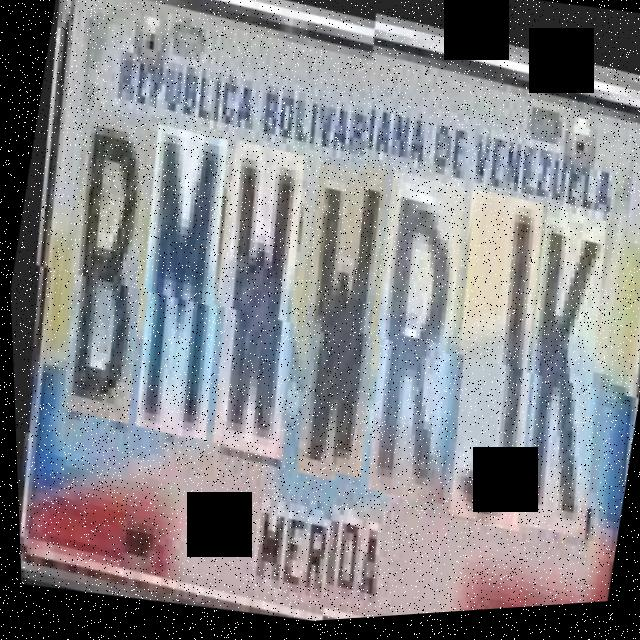B: (28, 104, 176, 426)
J: (412, 191, 571, 540)
K: (487, 209, 636, 546)
M: (100, 119, 255, 444)
R: (332, 172, 494, 514)
W: (262, 157, 412, 487), (178, 137, 330, 461)
